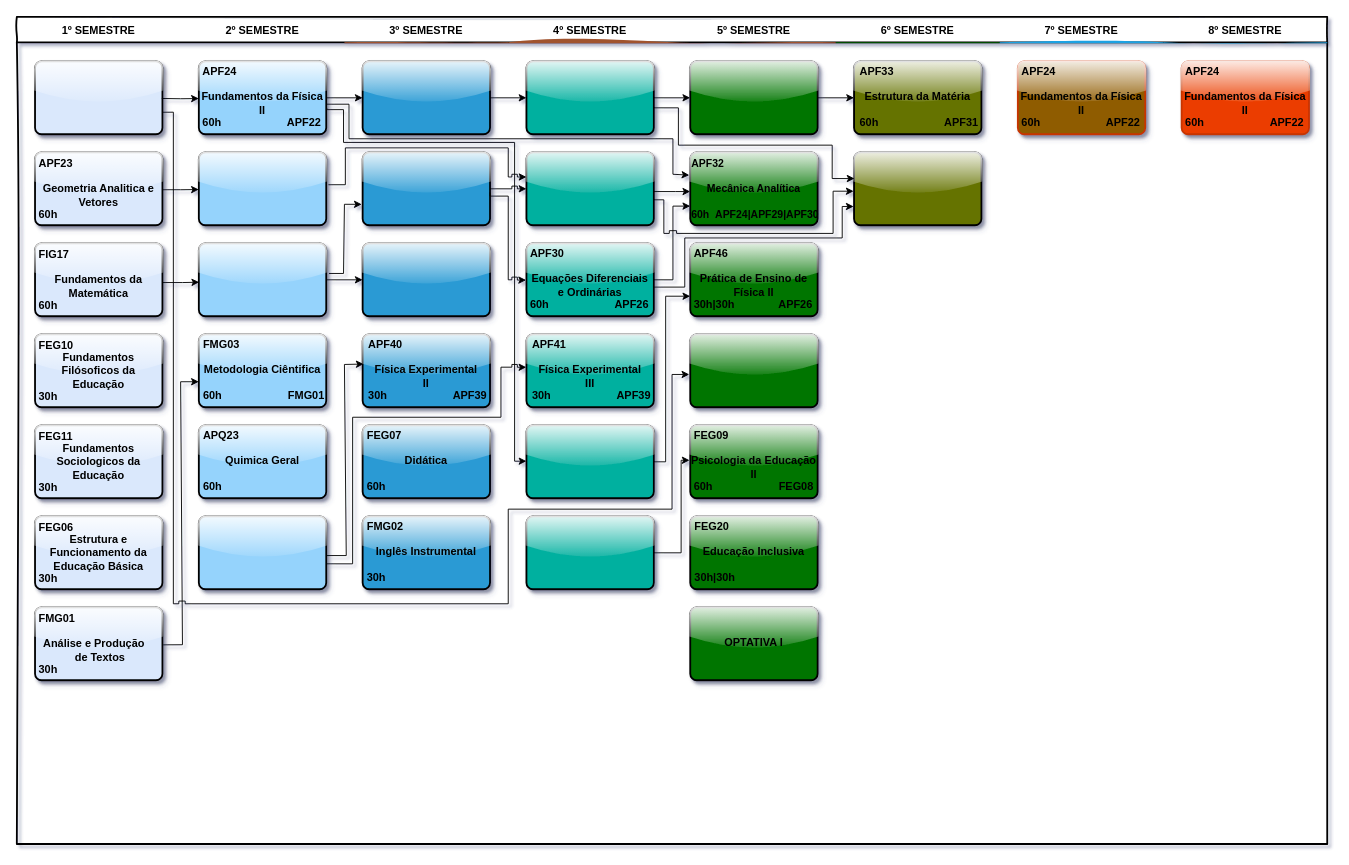
This 1349x865 diagram has some shape labels left out. Each missing label, with the centre of its shape:
"APF22 Fundamentos da Física I 60h" belongs at [99,98].
"APF25 Algebra Linear 60h APF2 3" belongs at [263,189].
"APF26 Fundamentos da Física III 60h APF2 4" belongs at [427,98].
"APF27 Probabilidade e Estátistica 60h FIG18" belongs at [427,280].
"APF28 Fundamentos da Física IV 60h APF2 6" belongs at [590,98].
"APF29 Cálculo Diferencial e Integral III 60h FIG18|APF25" belongs at [590,189].
"APF31 Fundamentos da Física V 60h APF22" belongs at [754,98].
"APF33 Eletrodinâmica Clássica I 90h APF28|APF29|APF30" belongs at [918,189].
"APF39 Física Experimental I 30h" belongs at [263,553].
"APF45 Prática de Ensino de Física I 30h|30h APF24" belongs at [590,462].
"APF48 Estágio Supervisionado I 30h APF22" belongs at [754,371].
"FEG08 Psicologia da Educação I 60h" belongs at [590,553].
"FIG18 Calculo Diferencial e Integral I 60h FIG17" belongs at [263,280].
"FIG19 Cáculo Diferencial e Integral II 60h FIG18" belongs at [427,189].
